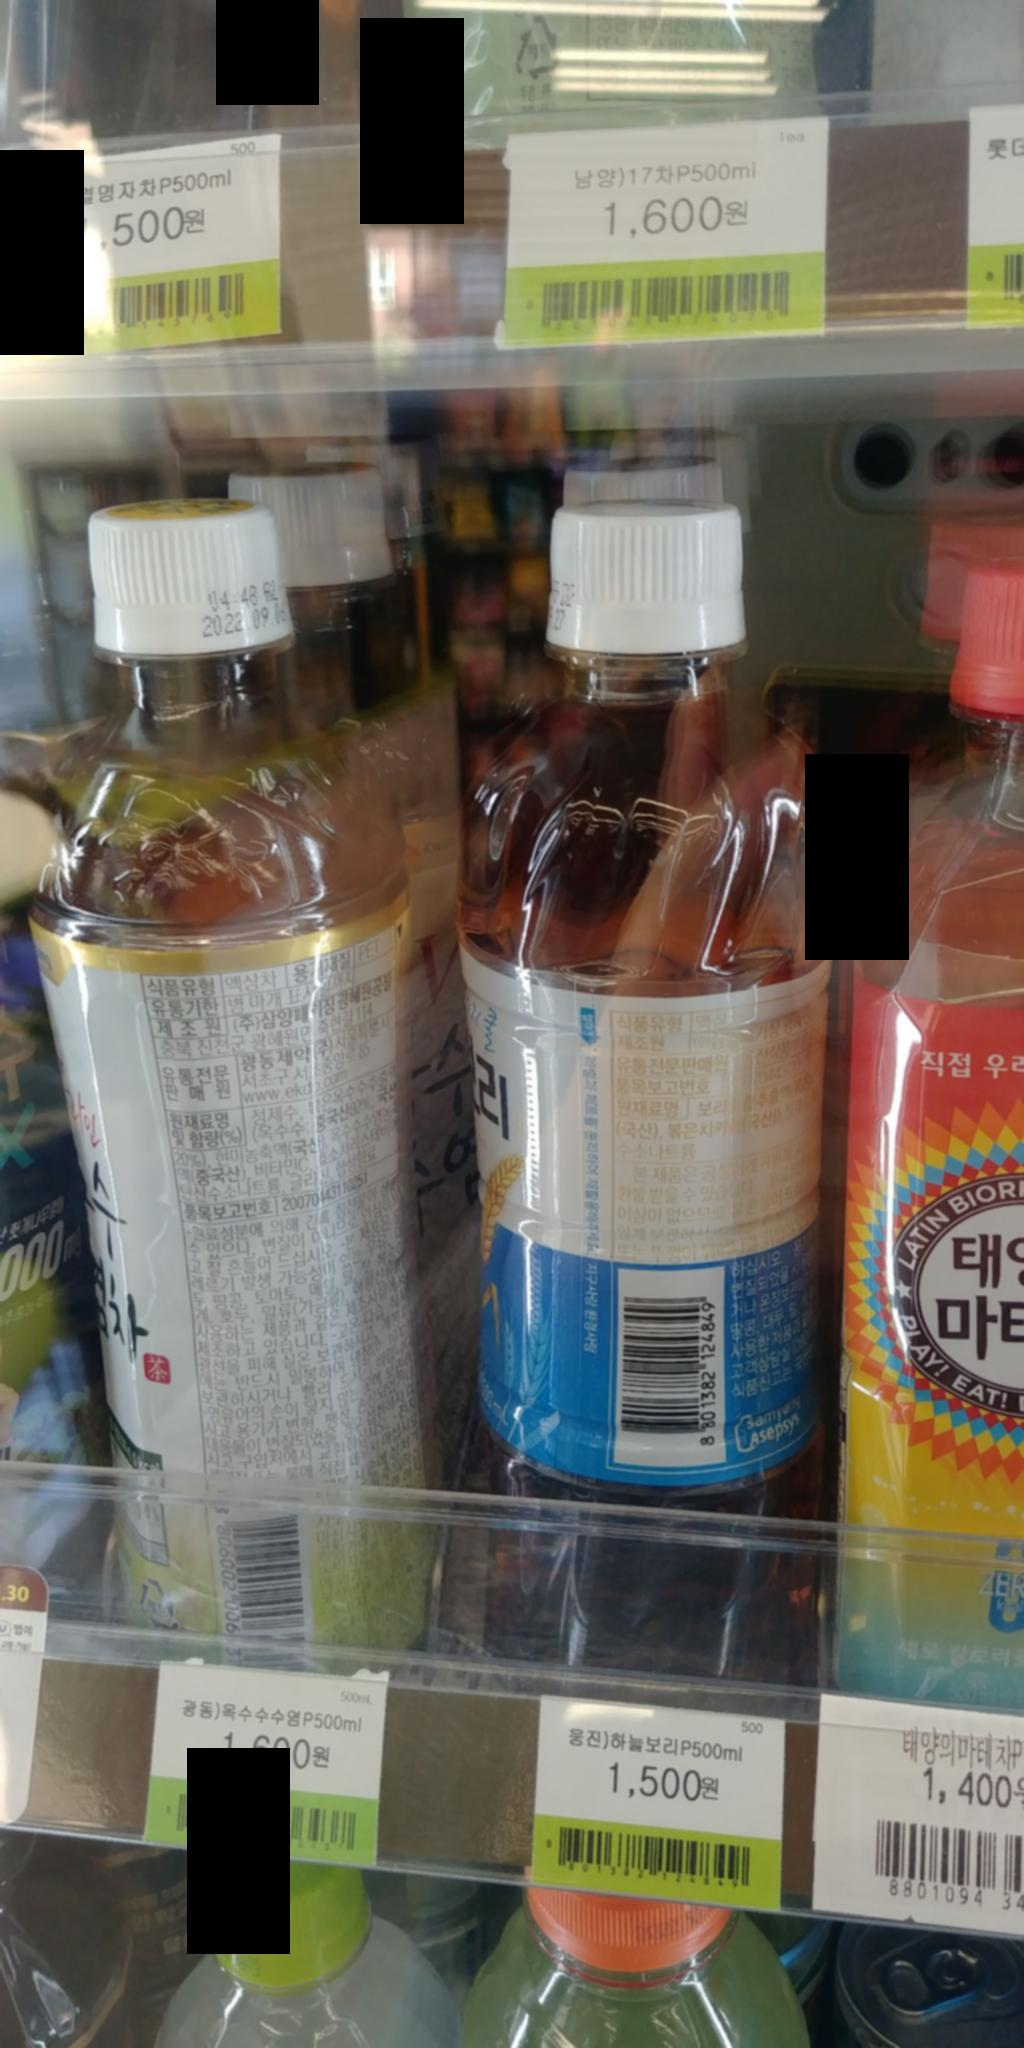haneulbori: (447, 482, 844, 1678)
oksususuyeomcha: (5, 465, 477, 1651)
